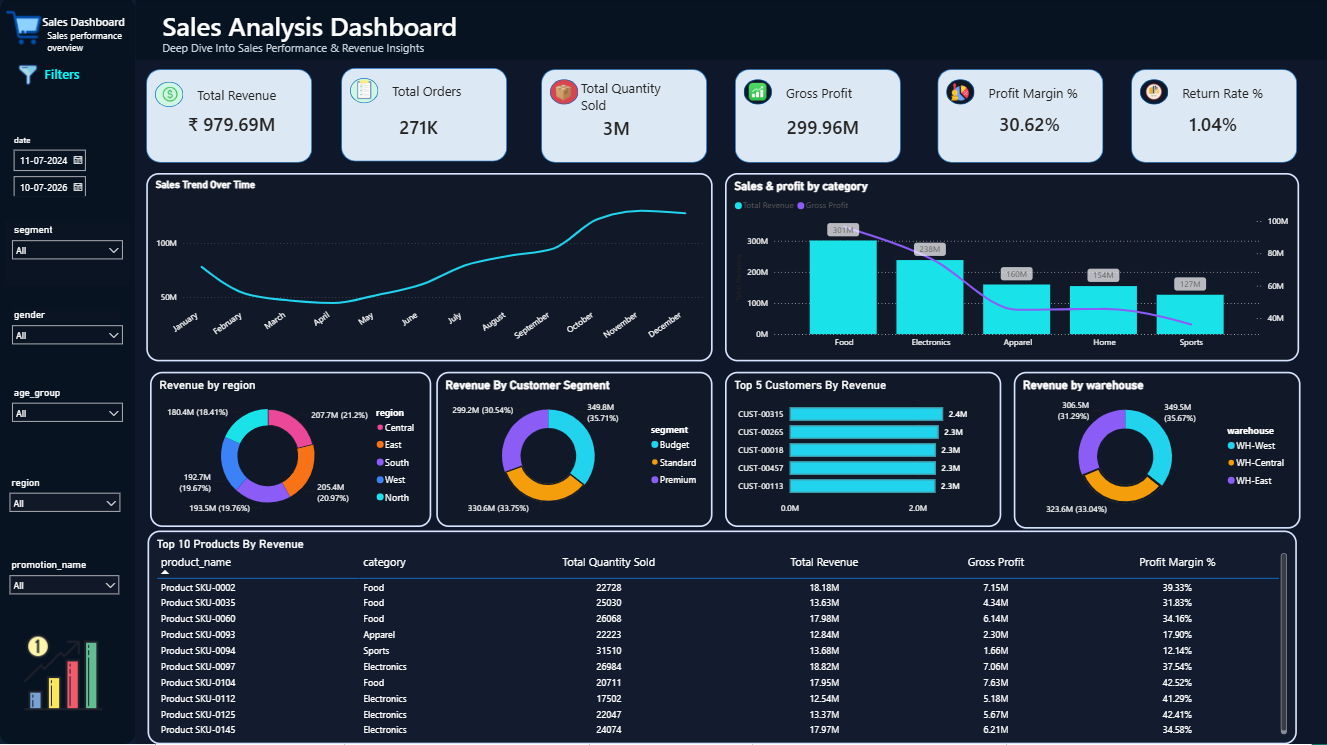

The dashboard page shown, as its layout file describes it:
{"tool":"powerbi","page":{"name":"Sales Dashboard","canvas":[1920,1080],"ordinal":2},"visuals":[{"type":"group","id":"g1","title":"Group 2","box":[195,0,1725,94],"z":0},{"type":"shape","box":[493.4,101.7,240,135.3],"z":0,"group":"g3"},{"type":"shape","box":[212.1,103.9,240,135.3],"z":0,"group":"g2"},{"type":"shape","box":[783.4,103.9,240,135.3],"z":0,"group":"g4"},{"type":"shape","box":[1064.8,103.9,240,135.3],"z":0,"group":"g5"},{"type":"shape","box":[1356.9,103.9,240,135.3],"z":0,"group":"g6"},{"type":"shape","box":[1638.3,103.9,240,135.3],"z":0,"group":"g7"},{"type":"shape","box":[0,0,196,1080],"z":1000},{"type":"shape","box":[195,0,1725,90],"z":1000,"group":"g1"},{"type":"actionButton","box":[1,11.2,65,65.8],"z":2000},{"type":"textbox","box":[56.5,18.1,155,45],"z":3000},{"type":"textbox","box":[64.2,40,139.2,46.7],"z":4000},{"type":"textbox","box":[41.2,92.5,103.8,45],"z":5000},{"type":"textbox","box":[229.5,10,543.6,71.8],"z":6000,"group":"g1"},{"type":"image","box":[0,87.5,81.2,48.8],"z":6000},{"type":"textbox","box":[230,56,420,38],"z":7000,"group":"g1"},{"type":"slicer","fields":{"Values":["dim_customers.age_group"]},"box":[7.5,557.5,180,96.2],"z":7000},{"type":"slicer","fields":{"Values":["dim_customers.segment"]},"box":[7.5,322.5,180,95],"z":8000},{"type":"shape","box":[505.7,115.9,40.9,36.6],"z":9000,"group":"g3"},{"type":"shape","box":[795.7,118.1,40.9,36.6],"z":9000,"group":"g4"},{"type":"shape","box":[1077.1,118.1,40.9,36.6],"z":9000,"group":"g5"},{"type":"shape","box":[1369.2,118.1,40.9,36.6],"z":9000,"group":"g6"},{"type":"shape","box":[1650.6,118.1,40.9,36.6],"z":9000,"group":"g7"},{"type":"shape","box":[225.3,121.4,40.9,36.6],"z":9000,"group":"g2"},{"type":"slicer","fields":{"Values":["dim_customers.gender"]},"box":[7.5,445,180,95],"z":9000},{"type":"image","box":[507.3,116.4,37,33],"z":10000,"group":"g3"},{"type":"image","box":[803.9,122.5,25.5,28.6],"z":10000,"group":"g4"},{"type":"image","box":[1085.3,122.5,25.5,28.6],"z":10000,"group":"g5"},{"type":"image","box":[1377.4,122.5,25.5,28.6],"z":10000,"group":"g6"},{"type":"image","box":[1658.8,122.5,25.5,28.6],"z":10000,"group":"g7"},{"type":"image","box":[233.5,125.9,25.5,28.6],"z":10000,"group":"g2"},{"type":"slicer","fields":{"Values":["dim_customers.region"]},"box":[3.8,687.5,180,95],"z":10000},{"type":"textbox","box":[836.2,112.8,158,60.6],"z":11000,"group":"g4"},{"type":"textbox","box":[562.1,118.5,142.7,42],"z":11000,"group":"g3"},{"type":"textbox","box":[1133.5,120.7,142.7,42],"z":11000,"group":"g5"},{"type":"textbox","box":[1425.6,120.7,142.7,42],"z":11000,"group":"g6"},{"type":"textbox","box":[1707,120.7,142.7,42],"z":11000,"group":"g7"},{"type":"textbox","box":[281.7,124.1,142.7,42],"z":11000,"group":"g2"},{"type":"slicer","fields":{"Values":["dim_date.date"]},"box":[7.5,191.2,180,95],"z":11000},{"type":"cardVisual","fields":{"Data":["Measures (2).Total Quantity Sold"]},"box":[856.1,146.3,151.5,82.2],"z":12000,"group":"g4"},{"type":"cardVisual","fields":{"Data":["Measures (2).Total Revenue"]},"box":[255.2,147.4,190,68.7],"z":12000,"group":"g2"},{"type":"cardVisual","fields":{"Data":["Measures (2).Profit Margin %"]},"box":[1428.5,147.4,190,68.7],"z":12000,"group":"g6"},{"type":"cardVisual","fields":{"Data":["Measures (2).Return Rate %"]},"box":[1704.8,147.4,190,68.7],"z":12000,"group":"g7"},{"type":"cardVisual","fields":{"Data":["Measures (2).Total Orders"]},"box":[559.6,149.9,190,68.7],"z":12000,"group":"g3"},{"type":"cardVisual","fields":{"Data":["Measures (2).Gross Profit"]},"box":[1123,150.3,190,68],"z":12000,"group":"g5"},{"type":"slicer","fields":{"Values":["dim_promotions.promotion_name"]},"box":[3.6,807.1,179.2,95.9],"z":12000},{"type":"group","id":"g2","title":"Group 1","box":[212.1,103.9,240,135.3],"z":13000},{"type":"group","id":"g3","title":"Group 1","box":[493.4,101.7,256.2,135.3],"z":14000},{"type":"group","id":"g4","title":"Group 1","box":[783.4,103.9,240.2,136.3],"z":15000},{"type":"group","id":"g5","title":"Group 1","box":[1064.8,103.9,248.9,136.3],"z":16000},{"type":"group","id":"g6","title":"Group 1","box":[1356.9,103.9,261.6,135.3],"z":17000},{"type":"group","id":"g7","title":"Group 1","box":[1638.3,103.9,256.5,135.3],"z":18000},{"type":"lineChart","title":"Sales Trend Over Time","fields":{"Category":["dim_date.month_name"],"Y":["Measures (2).Total Revenue"]},"box":[212.1,253.2,820.2,272.7],"z":19000},{"type":"lineClusteredColumnComboChart","title":"Sales & profit by category","fields":{"Category":["fact_sales.category"],"Y":["Measures (2).Total Revenue"],"Y2":["Measures (2).Gross Profit"]},"box":[1049.6,253.2,831,272.7],"z":20000},{"type":"donutChart","title":"Revenue by region","fields":{"Category":["dim_customers.region"],"Y":["Measures (2).Total Revenue"]},"box":[216.4,541,406.9,225.1],"z":21000},{"type":"donutChart","title":"Revenue By Customer Segment","fields":{"Category":["dim_customers.segment"],"Y":["Measures (2).Total Revenue"]},"box":[631.9,541,400.4,225.1],"z":22000},{"type":"clusteredBarChart","title":"Top 5 Customers By Revenue","fields":{"Category":["dim_customers.customer_id"],"Y":["Measures (2).Total Revenue"]},"box":[1049.6,541,400.4,225.1],"z":23000},{"type":"donutChart","title":"Revenue by warehouse","fields":{"Category":["fact_sales.warehouse"],"Y":["Measures (2).Total Revenue"]},"box":[1467.3,541,415.5,227.2],"z":24000},{"type":"tableEx","title":"Top 10 Products By Revenue","fields":{"Values":["dim_products.product_name","dim_products.category","Measures (2).Total Quantity Sold","Measures (2).Total Revenue","Measures (2).Gross Profit","Measures (2).Profit Margin %"]},"box":[214.3,770.4,1664.2,309.5],"z":25000},{"type":"image","box":[14,904,154,150],"z":25001}]}

Visuals, with their boxes in screenshot pixels (x1, y1, x2, y2), scaled from the page's 1920x1080 canvas onto the 1327x745 screenshot:
"Group 2" group: (left=135, top=0, right=1326, bottom=65)
shape: (left=341, top=70, right=507, bottom=163)
shape: (left=147, top=72, right=312, bottom=165)
shape: (left=541, top=72, right=707, bottom=165)
shape: (left=736, top=72, right=902, bottom=165)
shape: (left=938, top=72, right=1104, bottom=165)
shape: (left=1132, top=72, right=1298, bottom=165)
shape: (left=0, top=0, right=135, bottom=744)
shape: (left=135, top=0, right=1326, bottom=62)
actionButton: (left=1, top=8, right=46, bottom=53)
textbox: (left=39, top=12, right=146, bottom=44)
textbox: (left=44, top=28, right=141, bottom=60)
textbox: (left=28, top=64, right=100, bottom=95)
textbox: (left=159, top=7, right=534, bottom=56)
image: (left=0, top=60, right=56, bottom=94)
textbox: (left=159, top=39, right=449, bottom=65)
slicer - dim_customers.age_group: (left=5, top=385, right=130, bottom=451)
slicer - dim_customers.segment: (left=5, top=222, right=130, bottom=288)
shape: (left=350, top=80, right=378, bottom=105)
shape: (left=550, top=81, right=578, bottom=107)
shape: (left=744, top=81, right=773, bottom=107)
shape: (left=946, top=81, right=975, bottom=107)
shape: (left=1141, top=81, right=1169, bottom=107)
shape: (left=156, top=84, right=184, bottom=109)
slicer - dim_customers.gender: (left=5, top=307, right=130, bottom=372)
image: (left=351, top=80, right=376, bottom=103)
image: (left=556, top=85, right=573, bottom=104)
image: (left=750, top=85, right=768, bottom=104)
image: (left=952, top=85, right=970, bottom=104)
image: (left=1146, top=85, right=1164, bottom=104)
image: (left=161, top=87, right=179, bottom=107)
slicer - dim_customers.region: (left=3, top=474, right=127, bottom=540)
textbox: (left=578, top=78, right=687, bottom=120)
textbox: (left=388, top=82, right=487, bottom=111)
textbox: (left=783, top=83, right=882, bottom=112)
textbox: (left=985, top=83, right=1084, bottom=112)
textbox: (left=1180, top=83, right=1278, bottom=112)
textbox: (left=195, top=86, right=293, bottom=115)
slicer - dim_date.date: (left=5, top=132, right=130, bottom=197)
cardVisual - Measures (2).Total Quantity Sold: (left=592, top=101, right=696, bottom=158)
cardVisual - Measures (2).Total Revenue: (left=176, top=102, right=308, bottom=149)
cardVisual - Measures (2).Profit Margin %: (left=987, top=102, right=1119, bottom=149)
cardVisual - Measures (2).Return Rate %: (left=1178, top=102, right=1310, bottom=149)
cardVisual - Measures (2).Total Orders: (left=387, top=103, right=518, bottom=151)
cardVisual - Measures (2).Gross Profit: (left=776, top=104, right=907, bottom=151)
slicer - dim_promotions.promotion_name: (left=2, top=557, right=126, bottom=623)
"Group 1" group: (left=147, top=72, right=312, bottom=165)
"Group 1" group: (left=341, top=70, right=518, bottom=163)
"Group 1" group: (left=541, top=72, right=707, bottom=166)
"Group 1" group: (left=736, top=72, right=908, bottom=166)
"Group 1" group: (left=938, top=72, right=1119, bottom=165)
"Group 1" group: (left=1132, top=72, right=1310, bottom=165)
"Sales Trend Over Time" lineChart: (left=147, top=175, right=713, bottom=363)
"Sales & profit by category" lineClusteredColumnComboChart: (left=725, top=175, right=1300, bottom=363)
"Revenue by region" donutChart: (left=150, top=373, right=431, bottom=528)
"Revenue By Customer Segment" donutChart: (left=437, top=373, right=713, bottom=528)
"Top 5 Customers By Revenue" clusteredBarChart: (left=725, top=373, right=1002, bottom=528)
"Revenue by warehouse" donutChart: (left=1014, top=373, right=1301, bottom=530)
"Top 10 Products By Revenue" tableEx: (left=148, top=531, right=1298, bottom=744)
image: (left=10, top=624, right=116, bottom=727)
